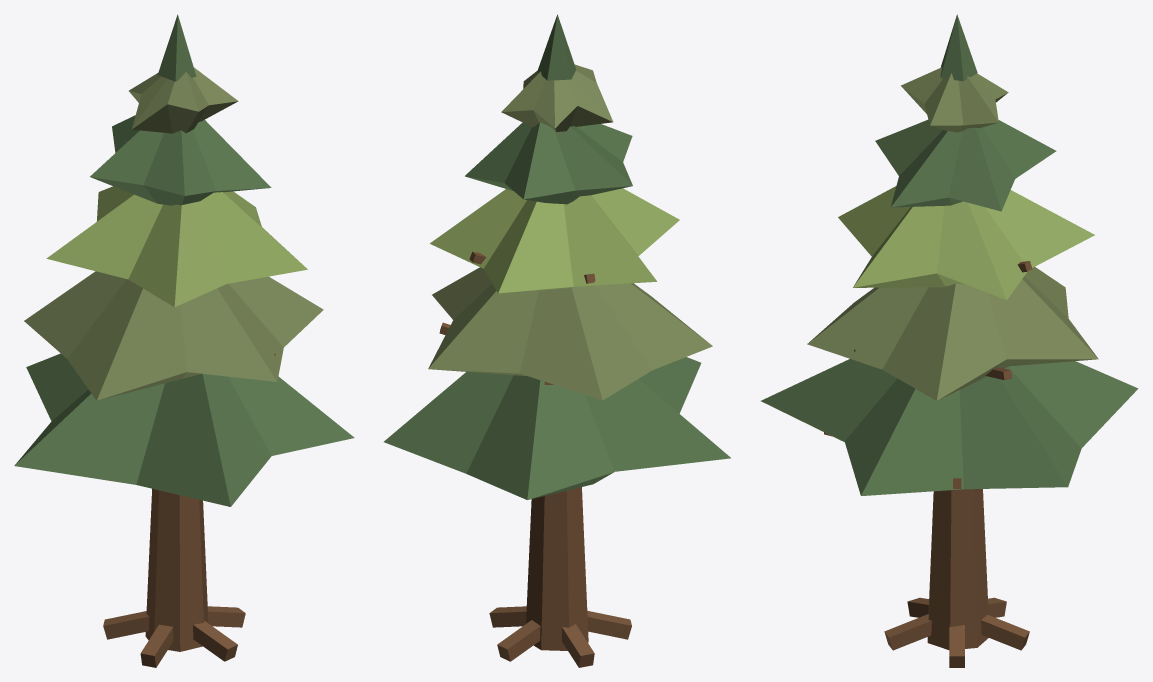
File: prop_pine_tree.glb
3 views of the same model, side by side, from view 1: azimuth 30°, elevation 25°; view 2: azimuth 150°, elevation 25°; view 3: azimuth 270°, elevation 25° (orthographic).
Parts seen in each view (by area): view 1: prop_pine_tree__Pine jagged crown 0.001, prop_pine_tree__Pine jagged crown 1.001, prop_pine_tree__Pine jagged crown 2.001, prop_pine_tree__Pine jagged crown 3.001, prop_pine_tree__Pine tapered trunk, prop_pine_tree__Pine jagged crown 4.001, prop_pine_tree__Pine leader, prop_pine_tree__Pine surface root 4, prop_pine_tree__Pine surface root 2, prop_pine_tree__Pine surface root 3, prop_pine_tree__Pine surface root 0; view 2: prop_pine_tree__Pine jagged crown 0.001, prop_pine_tree__Pine jagged crown 1.001, prop_pine_tree__Pine jagged crown 2.001, prop_pine_tree__Pine jagged crown 3.001, prop_pine_tree__Pine tapered trunk, prop_pine_tree__Pine jagged crown 4.001, prop_pine_tree__Pine leader, prop_pine_tree__Pine surface root 1, prop_pine_tree__Pine surface root 3, prop_pine_tree__Pine surface root 2, prop_pine_tree__Pine surface root 0; view 3: prop_pine_tree__Pine jagged crown 0.001, prop_pine_tree__Pine jagged crown 1.001, prop_pine_tree__Pine jagged crown 2.001, prop_pine_tree__Pine jagged crown 3.001, prop_pine_tree__Pine tapered trunk, prop_pine_tree__Pine jagged crown 4.001, prop_pine_tree__Pine leader, prop_pine_tree__Pine surface root 1, prop_pine_tree__Pine surface root 4, prop_pine_tree__Pine surface root 0.
Boxes of the visible parts, x1,y1,x2,y2 form: prop_pine_tree__Pine jagged crown 0.001: (14, 353, 354, 506); prop_pine_tree__Pine jagged crown 1.001: (24, 271, 323, 400); prop_pine_tree__Pine jagged crown 2.001: (46, 186, 307, 307); prop_pine_tree__Pine jagged crown 3.001: (90, 115, 271, 205); prop_pine_tree__Pine tapered trunk: (145, 488, 208, 651); prop_pine_tree__Pine jagged crown 4.001: (129, 67, 238, 133); prop_pine_tree__Pine leader: (157, 14, 196, 81); prop_pine_tree__Pine surface root 4: (193, 621, 237, 661); prop_pine_tree__Pine surface root 2: (103, 611, 149, 639); prop_pine_tree__Pine surface root 3: (140, 624, 173, 667); prop_pine_tree__Pine surface root 0: (207, 606, 245, 627); prop_pine_tree__Pine jagged crown 0.001: (384, 357, 730, 499); prop_pine_tree__Pine jagged crown 1.001: (428, 267, 712, 400); prop_pine_tree__Pine jagged crown 2.001: (430, 188, 679, 293); prop_pine_tree__Pine jagged crown 3.001: (465, 122, 632, 204); prop_pine_tree__Pine tapered trunk: (526, 487, 588, 650); prop_pine_tree__Pine jagged crown 4.001: (501, 64, 613, 131); prop_pine_tree__Pine leader: (537, 14, 576, 80); prop_pine_tree__Pine surface root 1: (497, 620, 540, 661); prop_pine_tree__Pine surface root 3: (587, 610, 631, 639); prop_pine_tree__Pine surface root 2: (562, 624, 594, 667); prop_pine_tree__Pine surface root 0: (489, 606, 526, 627); prop_pine_tree__Pine jagged crown 0.001: (761, 359, 1138, 495); prop_pine_tree__Pine jagged crown 1.001: (807, 267, 1098, 400); prop_pine_tree__Pine jagged crown 2.001: (838, 186, 1094, 300); prop_pine_tree__Pine jagged crown 3.001: (875, 119, 1056, 211); prop_pine_tree__Pine tapered trunk: (927, 489, 988, 649); prop_pine_tree__Pine jagged crown 4.001: (901, 67, 1008, 132); prop_pine_tree__Pine leader: (940, 14, 977, 81); prop_pine_tree__Pine surface root 1: (981, 615, 1029, 650); prop_pine_tree__Pine surface root 4: (884, 614, 931, 650); prop_pine_tree__Pine surface root 0: (949, 625, 964, 667).
Size of the model in its own units: 2.05 by 4.02 by 2.21.
